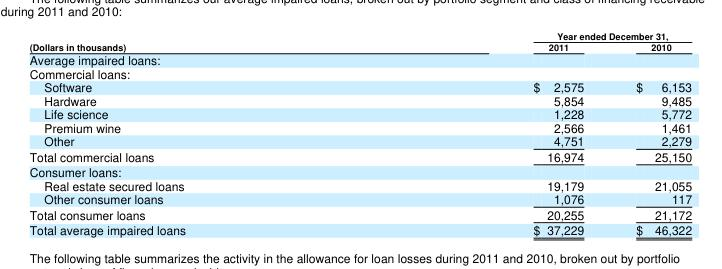table: (28, 29, 691, 237)
table column: (28, 29, 358, 237), (358, 29, 609, 237), (609, 29, 691, 237)
table column header: (28, 29, 691, 52)
table projected row header: (28, 163, 691, 178), (28, 52, 691, 66), (28, 66, 691, 79)
table row: (28, 221, 691, 237), (28, 133, 691, 148), (28, 148, 691, 163), (28, 163, 691, 178), (28, 191, 691, 206), (28, 206, 691, 221), (28, 52, 691, 66), (28, 79, 691, 93), (28, 106, 691, 120), (28, 66, 691, 79), (28, 93, 691, 106), (28, 120, 691, 133), (28, 178, 691, 191), (28, 29, 691, 41), (28, 41, 691, 52)
table spanning cell: (28, 29, 358, 52), (358, 29, 691, 41)
